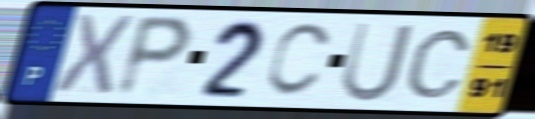2: (191, 15, 272, 104)
C: (262, 21, 337, 101), (402, 27, 475, 101)
P: (111, 12, 197, 100)
U: (337, 19, 418, 105)
X: (50, 11, 138, 97)
